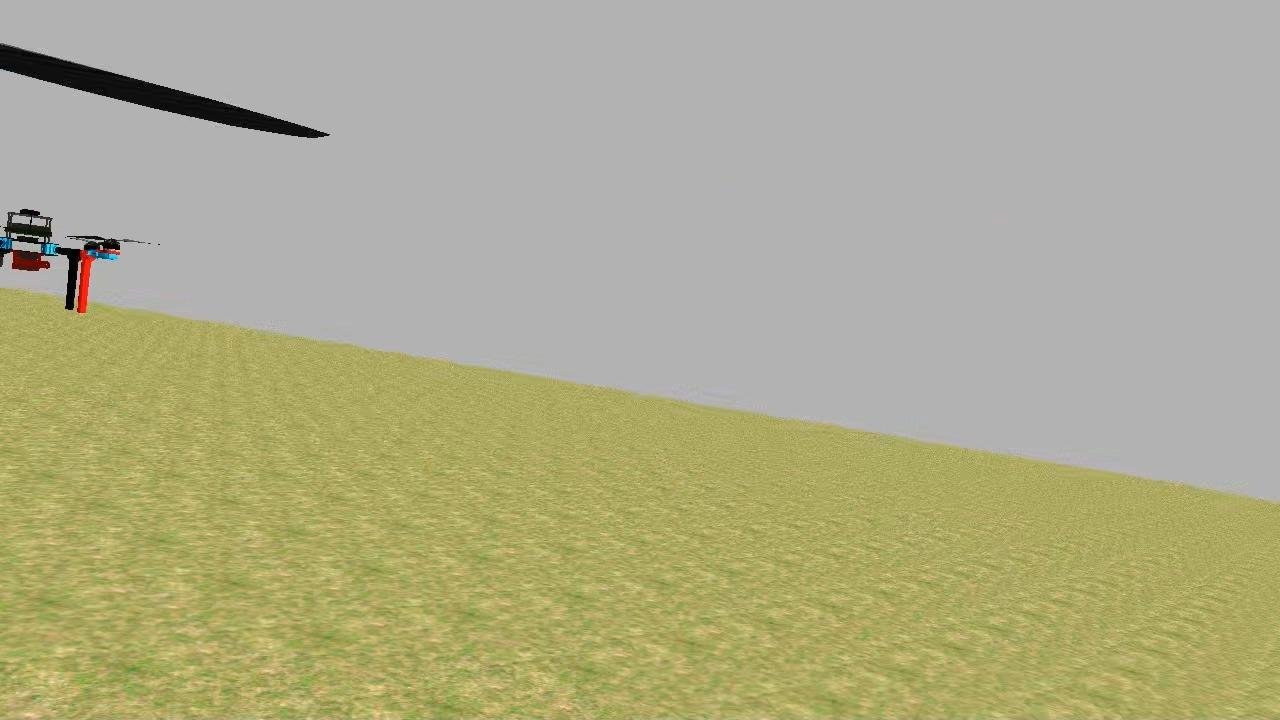UAV: (0, 191, 131, 325)
